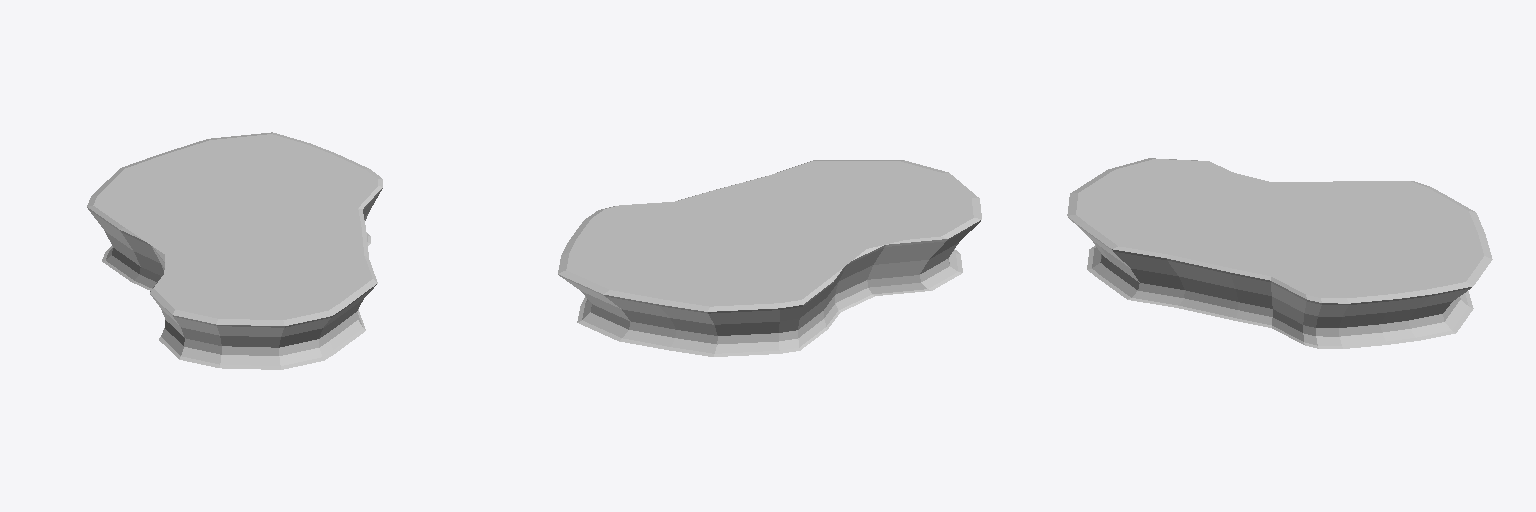
File: platform_05.obj
3 views of the same model, side by side, from view 1: azimuth 30°, elevation 25°; view 2: azimuth 150°, elevation 25°; view 3: azimuth 270°, elevation 25° (orthographic).
Parts seen in each view (by area): view 1: platform_05_Cube.011; view 2: platform_05_Cube.011; view 3: platform_05_Cube.011.
Part boxes in pixels (x1,y1,x2,y2): platform_05_Cube.011: (87,132,382,369); platform_05_Cube.011: (558,160,981,356); platform_05_Cube.011: (1067,158,1492,348).
Size of the model in its own units: 26.88 by 4.7 by 33.24.